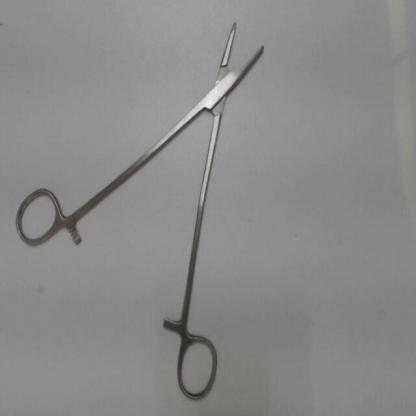8 Mayo Needle Holder: (9, 9, 280, 404)
